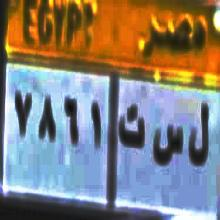1: (86, 100, 105, 158)
6: (62, 90, 83, 157)
7: (15, 83, 34, 143)
8: (38, 92, 57, 150)
laam: (188, 101, 210, 176)
seen: (152, 116, 185, 170)
taa: (116, 94, 147, 150)
